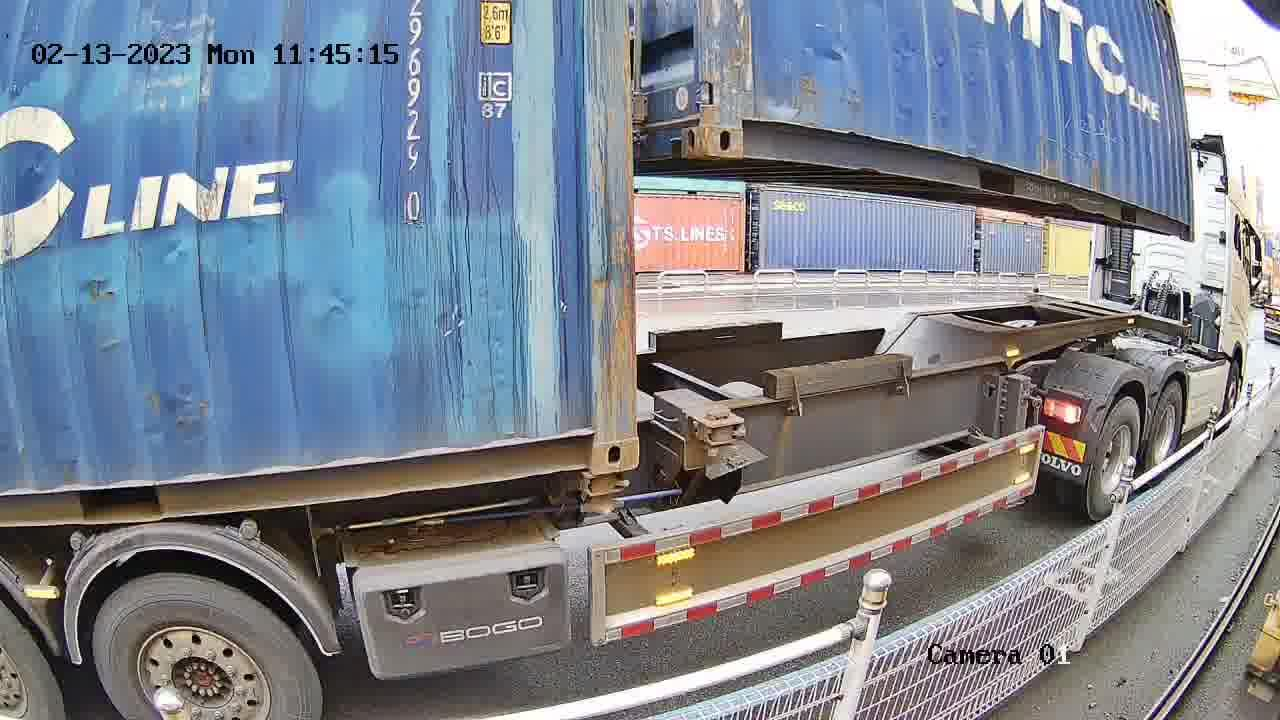Cone: (693, 407, 747, 448), (581, 474, 626, 516)
Hole_L: (705, 85, 781, 160)
Hole_R: (551, 403, 637, 482), (649, 88, 705, 158)
Tire: (92, 576, 321, 712), (1091, 401, 1140, 516), (1149, 385, 1183, 480)
